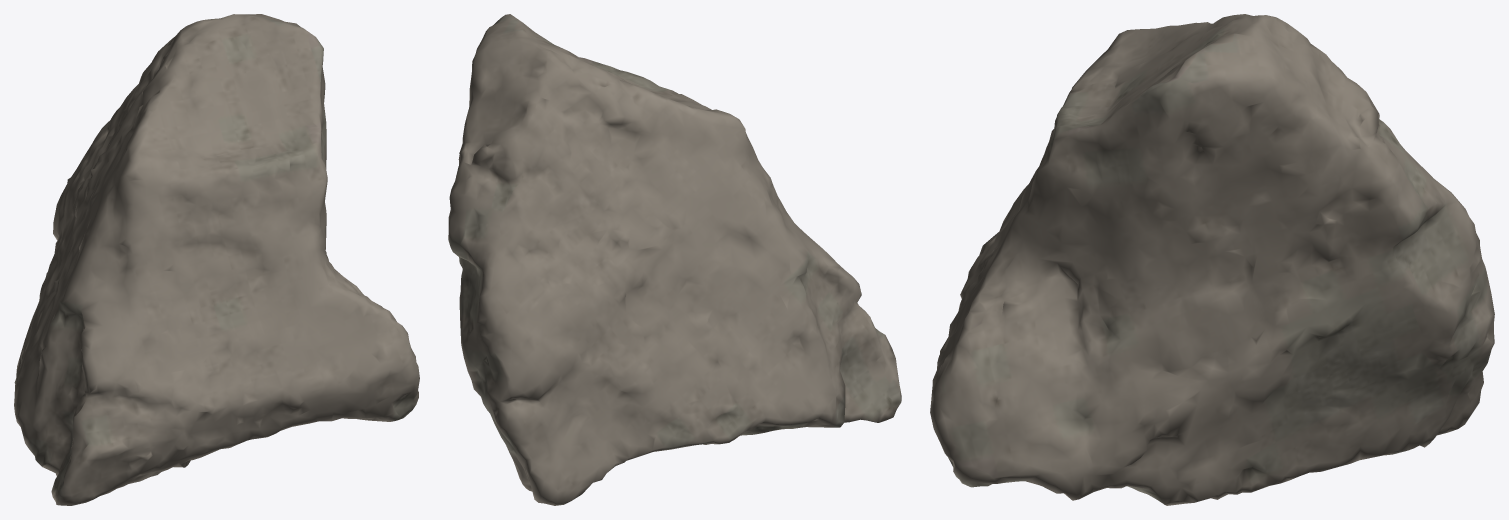
The model's file is moon_rock_05.glb.
3 views of the same model, side by side, from view 1: azimuth 30°, elevation 25°; view 2: azimuth 150°, elevation 25°; view 3: azimuth 270°, elevation 25° (orthographic). The views are drawn at different scales.
Parts seen in each view (by area): view 1: moon_rock_05_LOD0; view 2: moon_rock_05_LOD0; view 3: moon_rock_05_LOD0.
Boxes of the visible parts, <box> form: moon_rock_05_LOD0: <box>14,14,419,505</box>; moon_rock_05_LOD0: <box>448,14,901,505</box>; moon_rock_05_LOD0: <box>930,14,1494,505</box>.
Size of the model in its own units: 0.0717 by 0.0734 by 0.0811.
Materials: 1 (1 with a texture image).
